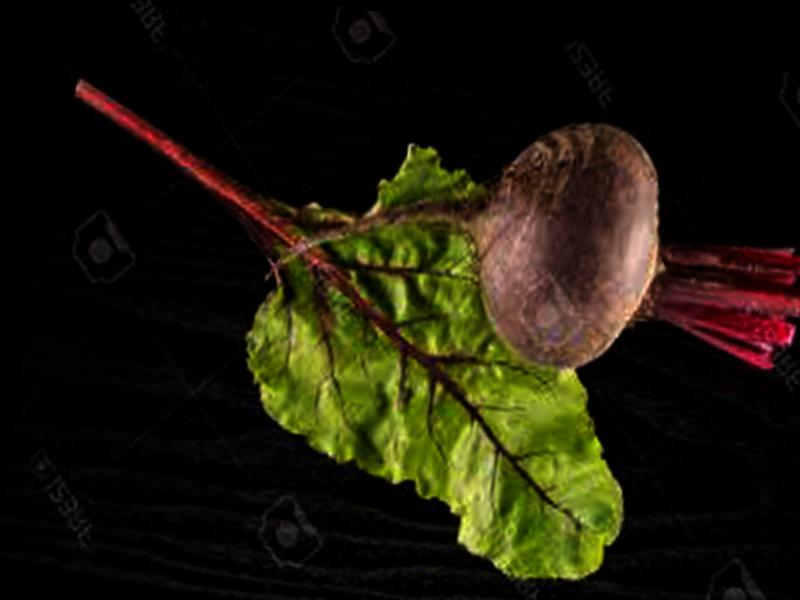Beet: (259, 79, 800, 405)
